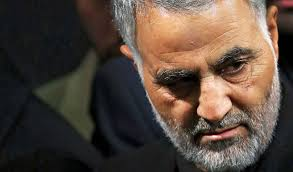middle_eastern_male: (127, 5, 284, 160)
